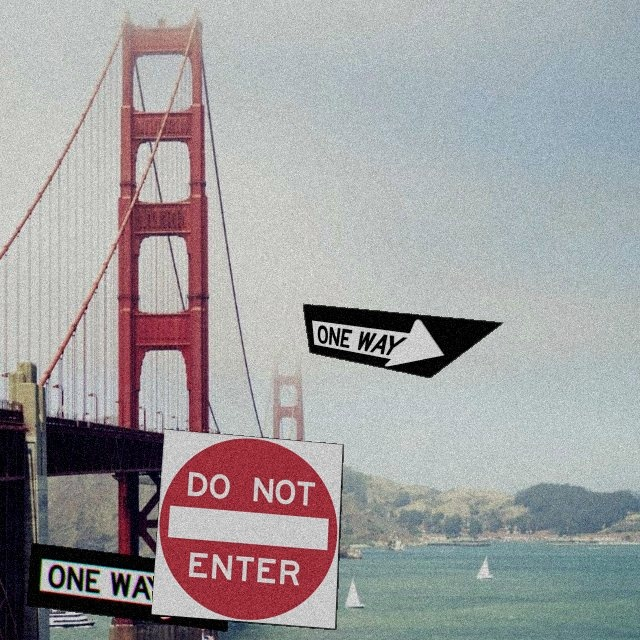DO_NOT_ENTER: (150, 428, 344, 630)
ONE_WAY_ right: (26, 542, 228, 632), (302, 303, 504, 378)
